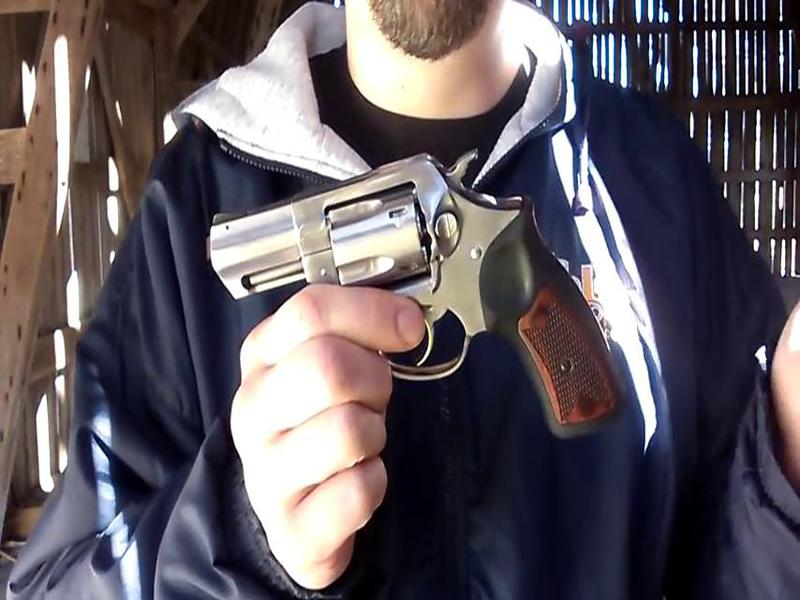Revolver: (187, 152, 651, 435)
